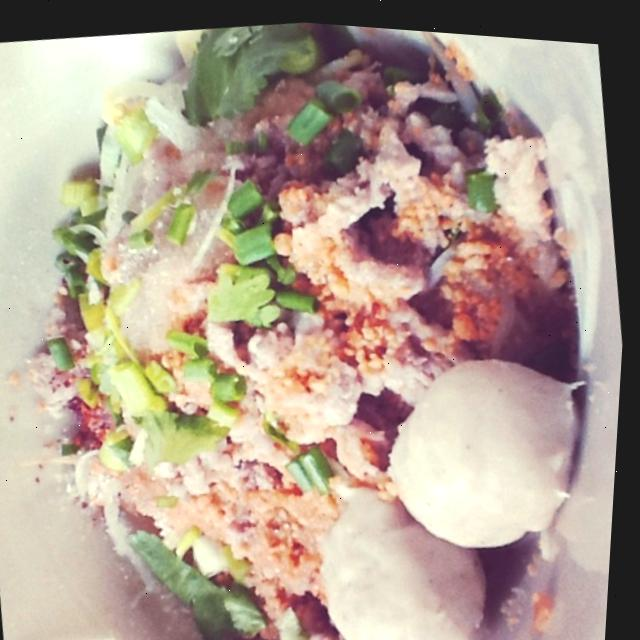猪肉菜式: (5, 2, 637, 640)
